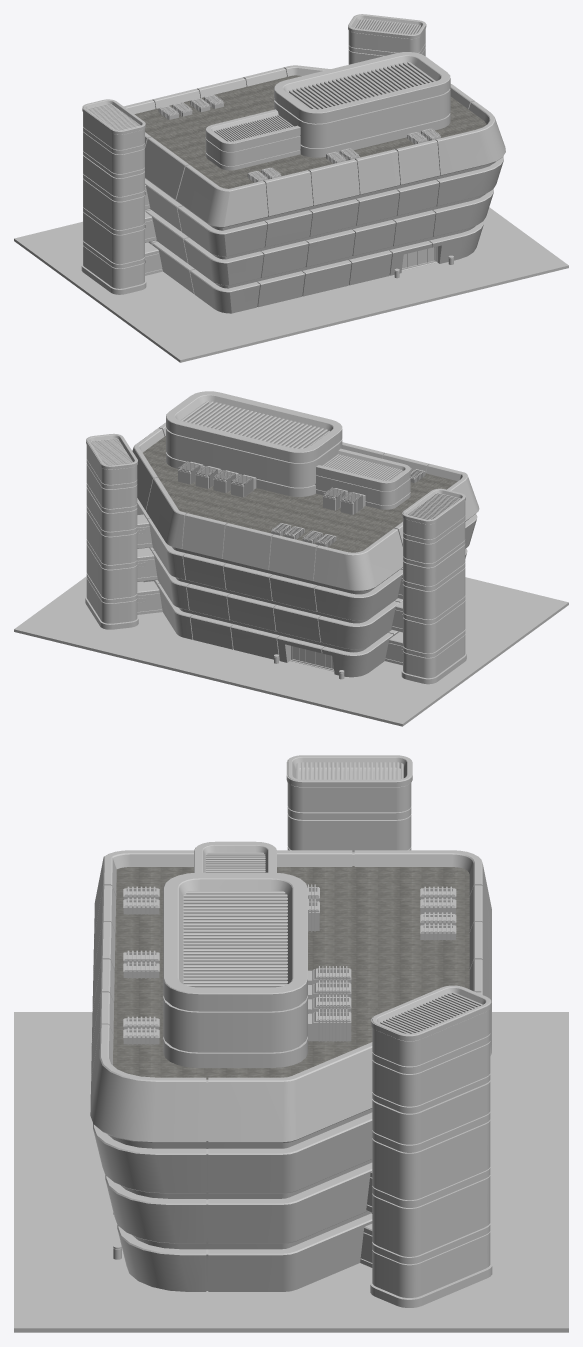
File: Kitbash3D_Brutalist_Structure09.fbx
3 renders of one model, top to bottom at view 1: azimuth 30°, elevation 25°; view 2: azimuth 150°, elevation 25°; view 3: azimuth 270°, elevation 25°, orthographic. The views are drawn at different scales.
Visible parts, largest first — view 1: M_Sm_Bldg_C_Main_Bldg, M_Sm_Bldg_C_Sidewalk, M_Sm_Bldg_C_Stair_Elev, M_Sm_Bldg_C_Roof_Office, M_Sm_Bldg_C_Roof_Top, M_Sm_Bldg_C_Mullions_Slats_Details, M_Sm_Bldg_C_WindowsGlass, M_Sm_Bldg_C_Roof_Props; view 2: M_Sm_Bldg_C_Main_Bldg, M_Sm_Bldg_C_Sidewalk, M_Sm_Bldg_C_Stair_Elev, M_Sm_Bldg_C_Roof_Office, M_Sm_Bldg_C_Roof_Top, M_Sm_Bldg_C_Mullions_Slats_Details, M_Sm_Bldg_C_WindowsGlass, M_Sm_Bldg_C_Roof_Props; view 3: M_Sm_Bldg_C_Sidewalk, M_Sm_Bldg_C_Main_Bldg, M_Sm_Bldg_C_Stair_Elev, M_Sm_Bldg_C_Roof_Top, M_Sm_Bldg_C_Roof_Office, M_Sm_Bldg_C_Mullions_Slats_Details, M_Sm_Bldg_C_Roof_Props, M_Sm_Bldg_C_WindowsGlass.
Boxes of the visible parts, x1,y1,x2,y2 form: M_Sm_Bldg_C_Main_Bldg: [124, 65, 505, 313]; M_Sm_Bldg_C_Sidewalk: [14, 207, 568, 362]; M_Sm_Bldg_C_Stair_Elev: [81, 14, 426, 294]; M_Sm_Bldg_C_Roof_Office: [205, 52, 450, 170]; M_Sm_Bldg_C_Roof_Top: [134, 75, 486, 188]; M_Sm_Bldg_C_Mullions_Slats_Details: [87, 18, 440, 269]; M_Sm_Bldg_C_WindowsGlass: [145, 162, 495, 288]; M_Sm_Bldg_C_Roof_Props: [158, 95, 440, 181]; M_Sm_Bldg_C_Main_Bldg: [132, 422, 479, 677]; M_Sm_Bldg_C_Sidewalk: [14, 576, 568, 726]; M_Sm_Bldg_C_Stair_Elev: [85, 433, 466, 684]; M_Sm_Bldg_C_Roof_Office: [166, 391, 410, 509]; M_Sm_Bldg_C_Roof_Top: [143, 436, 457, 552]; M_Sm_Bldg_C_Mullions_Slats_Details: [90, 401, 460, 670]; M_Sm_Bldg_C_WindowsGlass: [137, 519, 468, 668]; M_Sm_Bldg_C_Roof_Props: [178, 461, 425, 546]; M_Sm_Bldg_C_Sidewalk: [14, 1012, 568, 1332]; M_Sm_Bldg_C_Main_Bldg: [90, 850, 491, 1291]; M_Sm_Bldg_C_Stair_Elev: [286, 755, 492, 1307]; M_Sm_Bldg_C_Roof_Top: [113, 866, 469, 1079]; M_Sm_Bldg_C_Roof_Office: [163, 841, 307, 1067]; M_Sm_Bldg_C_Mullions_Slats_Details: [127, 762, 482, 1044]; M_Sm_Bldg_C_Roof_Props: [123, 887, 456, 1044]; M_Sm_Bldg_C_WindowsGlass: [107, 1108, 372, 1249].
Bounding box in the file's own units: 37.31 × 15.71 × 27.66.
